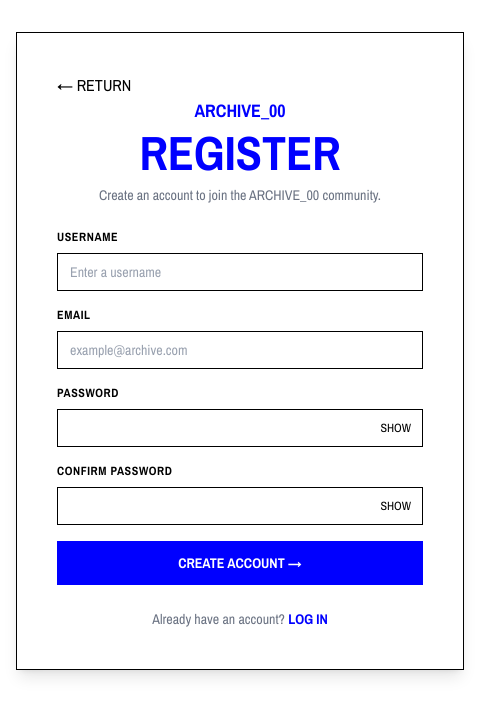
Test: RegisterView › shows error message when register fails
Type "testuser" into the field labelled "Username" at (240, 272), box [57,253,423,291]
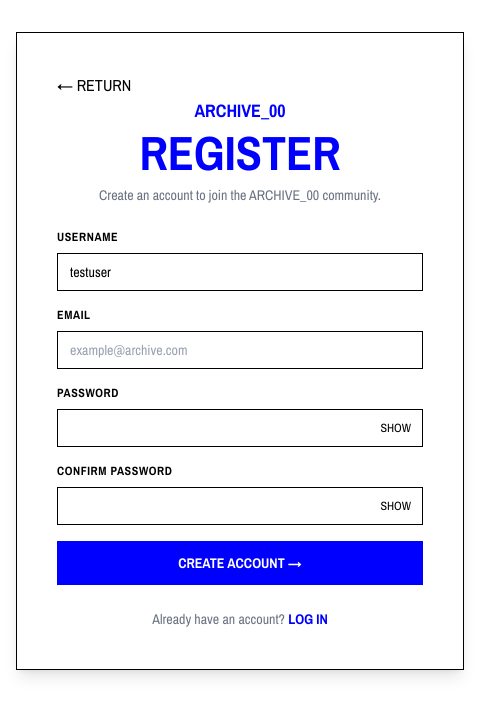
Type "test@example.com" into the field labelled "Email" at (240, 350), box [57,331,423,369]
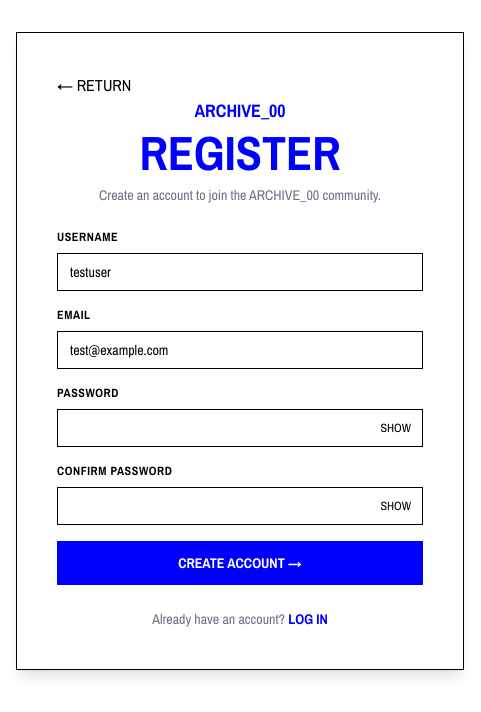
Type "password123" into the password field labelled "Password" at (240, 428), box [57,409,423,447]
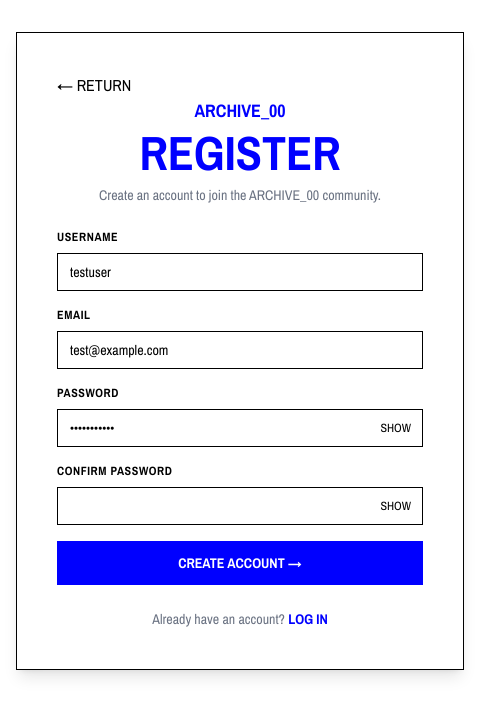
Type "password123" into the password field labelled "Confirm Password" at (240, 506), box [57,487,423,525]
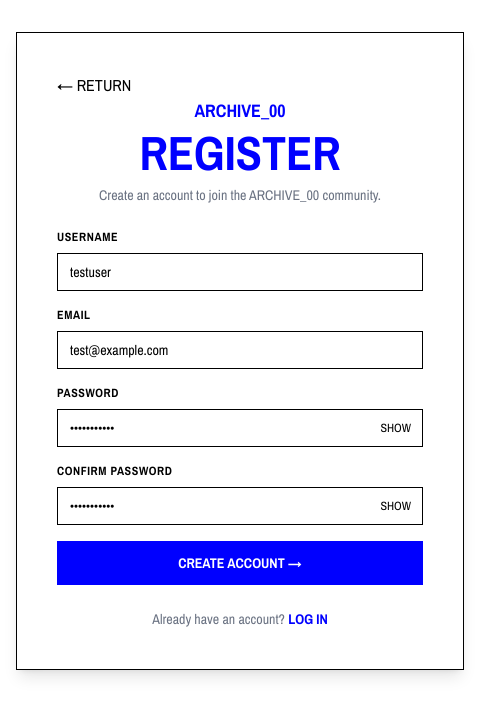
Submit the form, box [57,229,423,585]
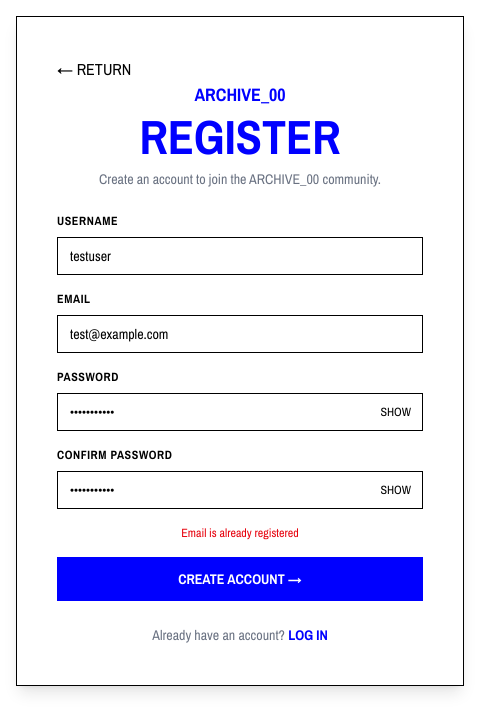
Result: the text "Email is already registered" is shown at [181,525,299,541]
